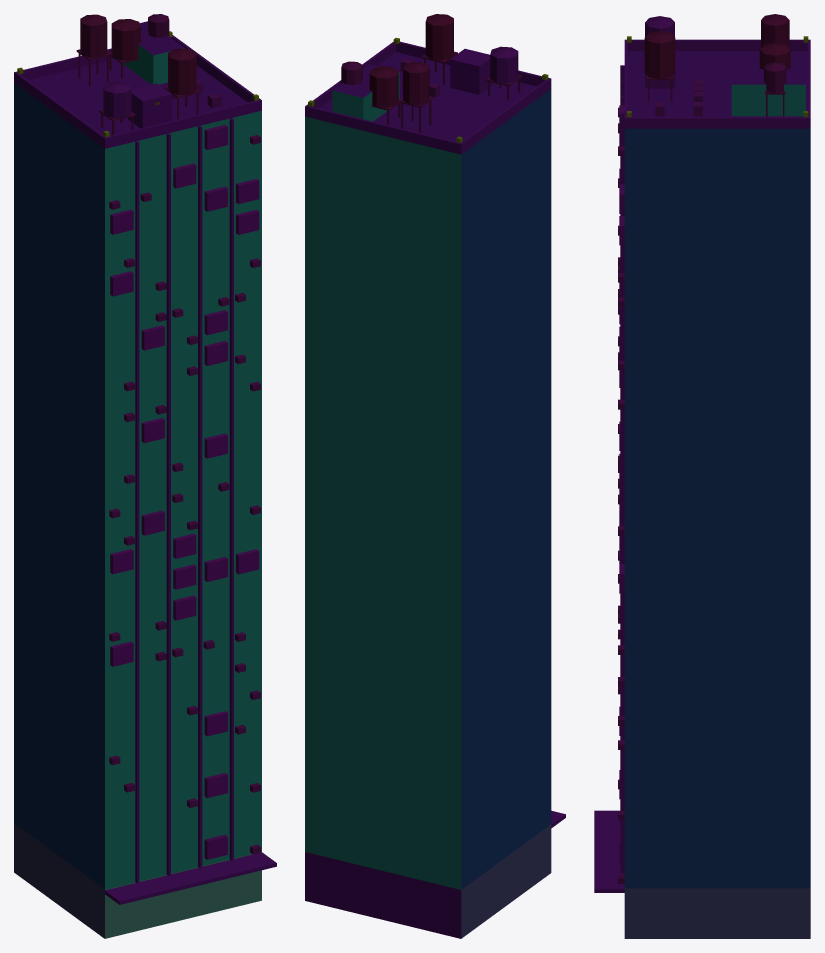
File: slab_g.lod1.glb
3 renders of one model, left to right at view 1: azimuth 30°, elevation 25°; view 2: azimuth 150°, elevation 25°; view 3: azimuth 270°, elevation 25°, orthographic. The views are drawn at different scales.
Visible parts, largest first — view 1: slab_g.lod1; view 2: slab_g.lod1; view 3: slab_g.lod1.
Part boxes in pixels (x1,y1,x2,y2): slab_g.lod1: (14, 14, 276, 938); slab_g.lod1: (305, 14, 565, 938); slab_g.lod1: (594, 14, 810, 938).
Size of the model in its own units: 16 by 82.91 by 18.6.
